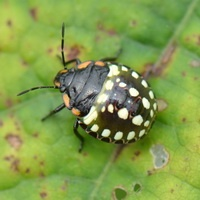insect: (17, 23, 160, 151)
